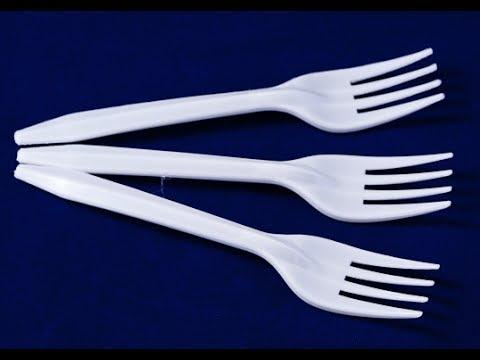Fork: (14, 163, 440, 319), (13, 48, 445, 146), (16, 144, 454, 223)
